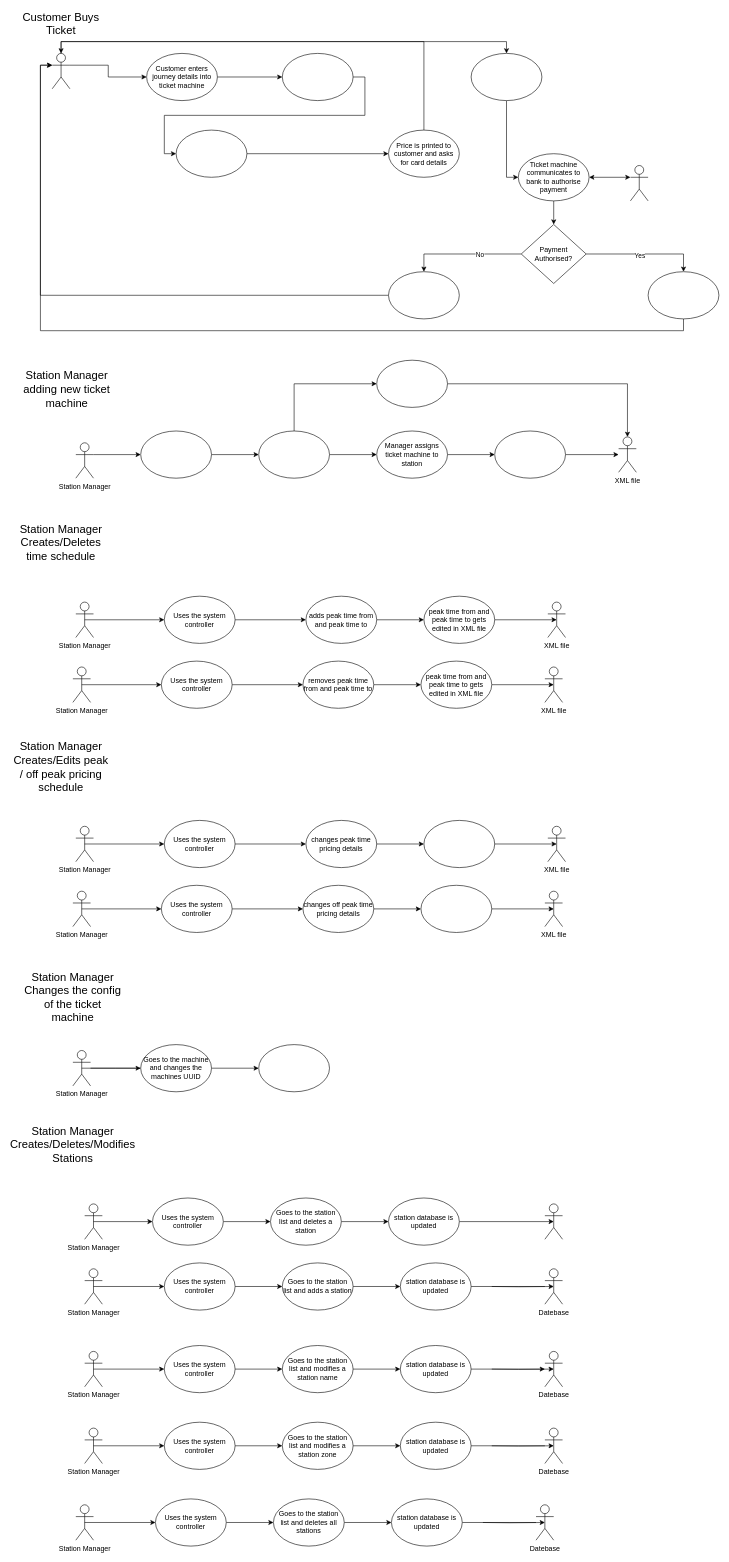
The diagram is 729 pixels wide and 1562 high, and some of its shapes have lost their labels. The box of each missing label's shape, as (x1, y1, x2, y2) in pixels:
Bank: (630, 165, 648, 201)
Creates new ticket machine, auto generates UUID.: (258, 430, 330, 478)
Customer: (52, 53, 70, 89)
Customer swipes card: (471, 53, 542, 101)
Database: (544, 1203, 563, 1239)
Error is displayed to customer: (388, 271, 459, 319)
Machine pulls down new configuration using the UUID: (258, 1044, 330, 1092)
Machine reads in info entered by user: (282, 53, 353, 101)
New machine is saved in XML file: (376, 360, 448, 407)
off peak time price updates in XML file: (420, 885, 492, 932)
peak time price updates in XML file: (423, 820, 495, 868)
Ticket and receipt is printed: (648, 271, 719, 319)
Ticket machine passes on travel info and price is calculated: (176, 130, 247, 177)
Uses system controller: (140, 430, 212, 478)
XML file containing ticket machine config is updated.: (494, 430, 566, 478)
